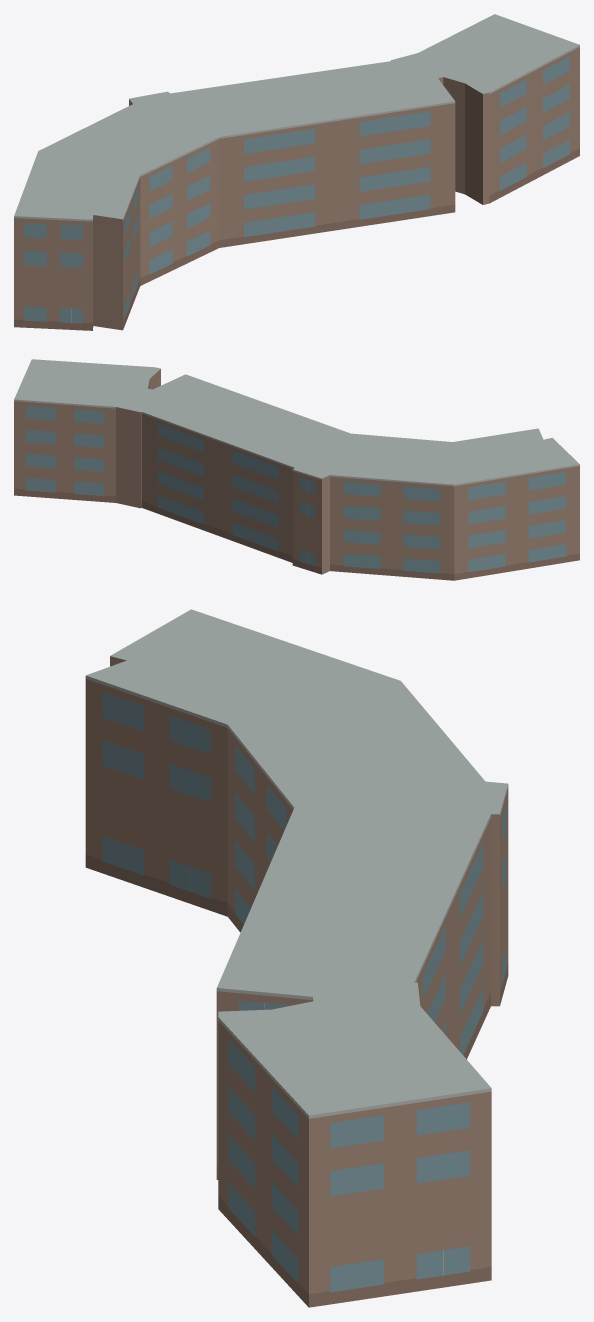
The model's file is survey-upis-33029453.glb.
3 renders of one model, top to bottom at view 1: azimuth 30°, elevation 25°; view 2: azimuth 150°, elevation 25°; view 3: azimuth 270°, elevation 25°, orthographic. The views are drawn at different scales.
Visible parts, largest first — view 1: survey-upis-33029453.tmp; view 2: survey-upis-33029453.tmp; view 3: survey-upis-33029453.tmp.
Part boxes in pixels (bbox=[...]): survey-upis-33029453.tmp: bbox=[14, 14, 579, 330]; survey-upis-33029453.tmp: bbox=[14, 359, 579, 580]; survey-upis-33029453.tmp: bbox=[85, 609, 508, 1307].
Bounding box in the file's own units: 80.29 × 14.2 × 28.33.
